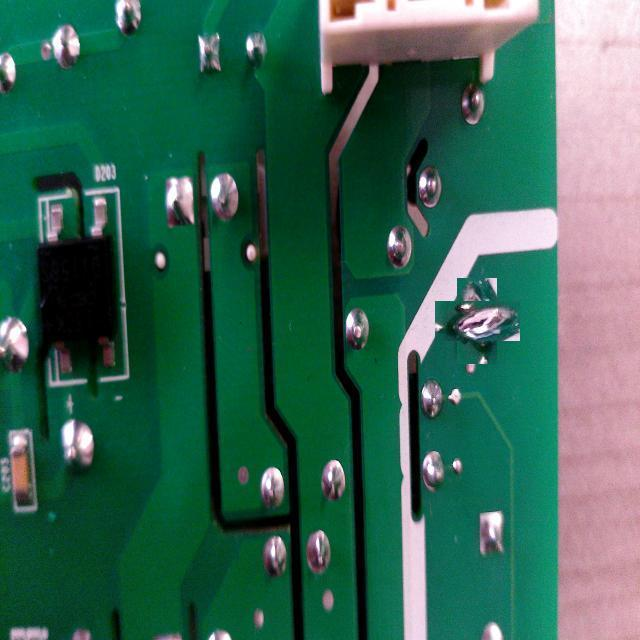Short_circuit: (446, 290, 508, 353)
